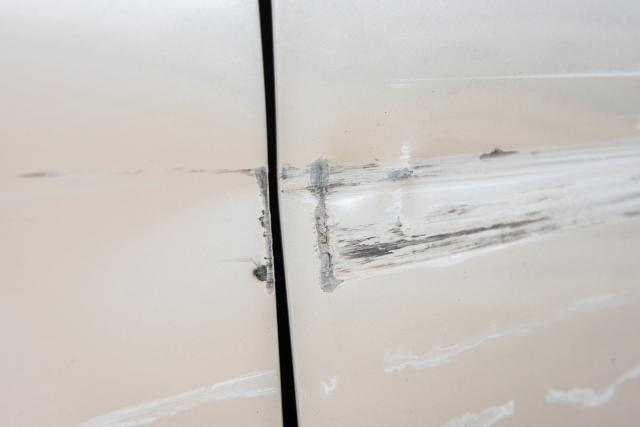scratch: (281, 126, 640, 307), (312, 282, 640, 402), (7, 162, 279, 296), (428, 361, 640, 427), (66, 366, 281, 427)
